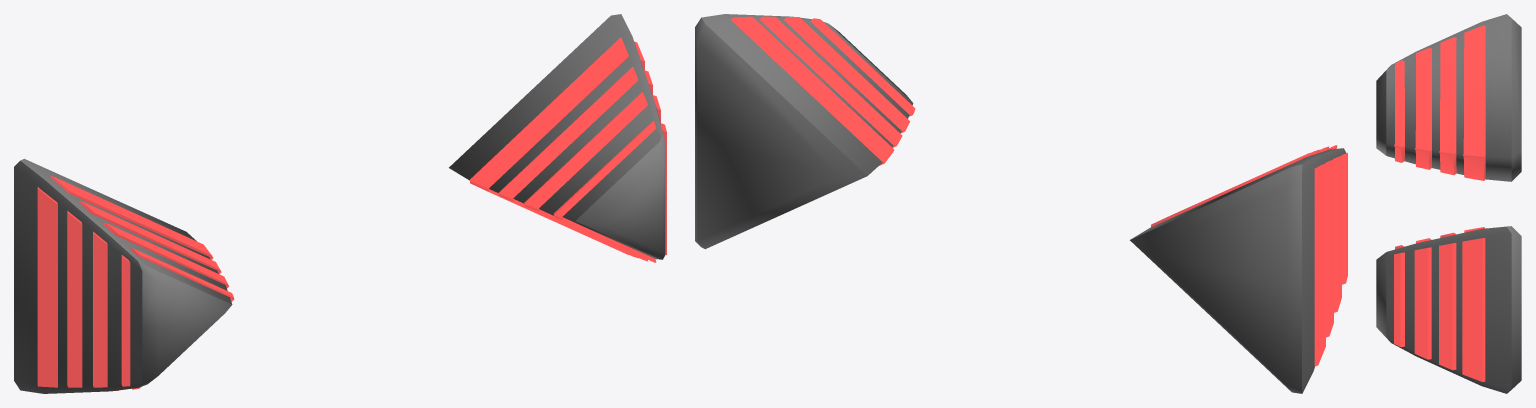
The model's file is PlatformTriangels.fbx.
3 views of the same model, side by side, from view 1: azimuth 30°, elevation 25°; view 2: azimuth 150°, elevation 25°; view 3: azimuth 270°, elevation 25° (orthographic). The views are drawn at different scales.
Parts seen in each view (by area): view 1: Box008, Box007; view 2: Box007, Box008; view 3: Box007, Box008.
Part boxes in pixels (left/top/right/bottom): Box008: left=14, top=158, right=234, bottom=393; Box007: left=449, top=14, right=666, bottom=262; Box007: left=695, top=14, right=915, bottom=249; Box008: left=1130, top=145, right=1347, bottom=393; Box007: left=1376, top=226, right=1521, bottom=393; Box008: left=1376, top=14, right=1521, bottom=181.
Size of the model in its own units: 303 by 110 by 86.48.
